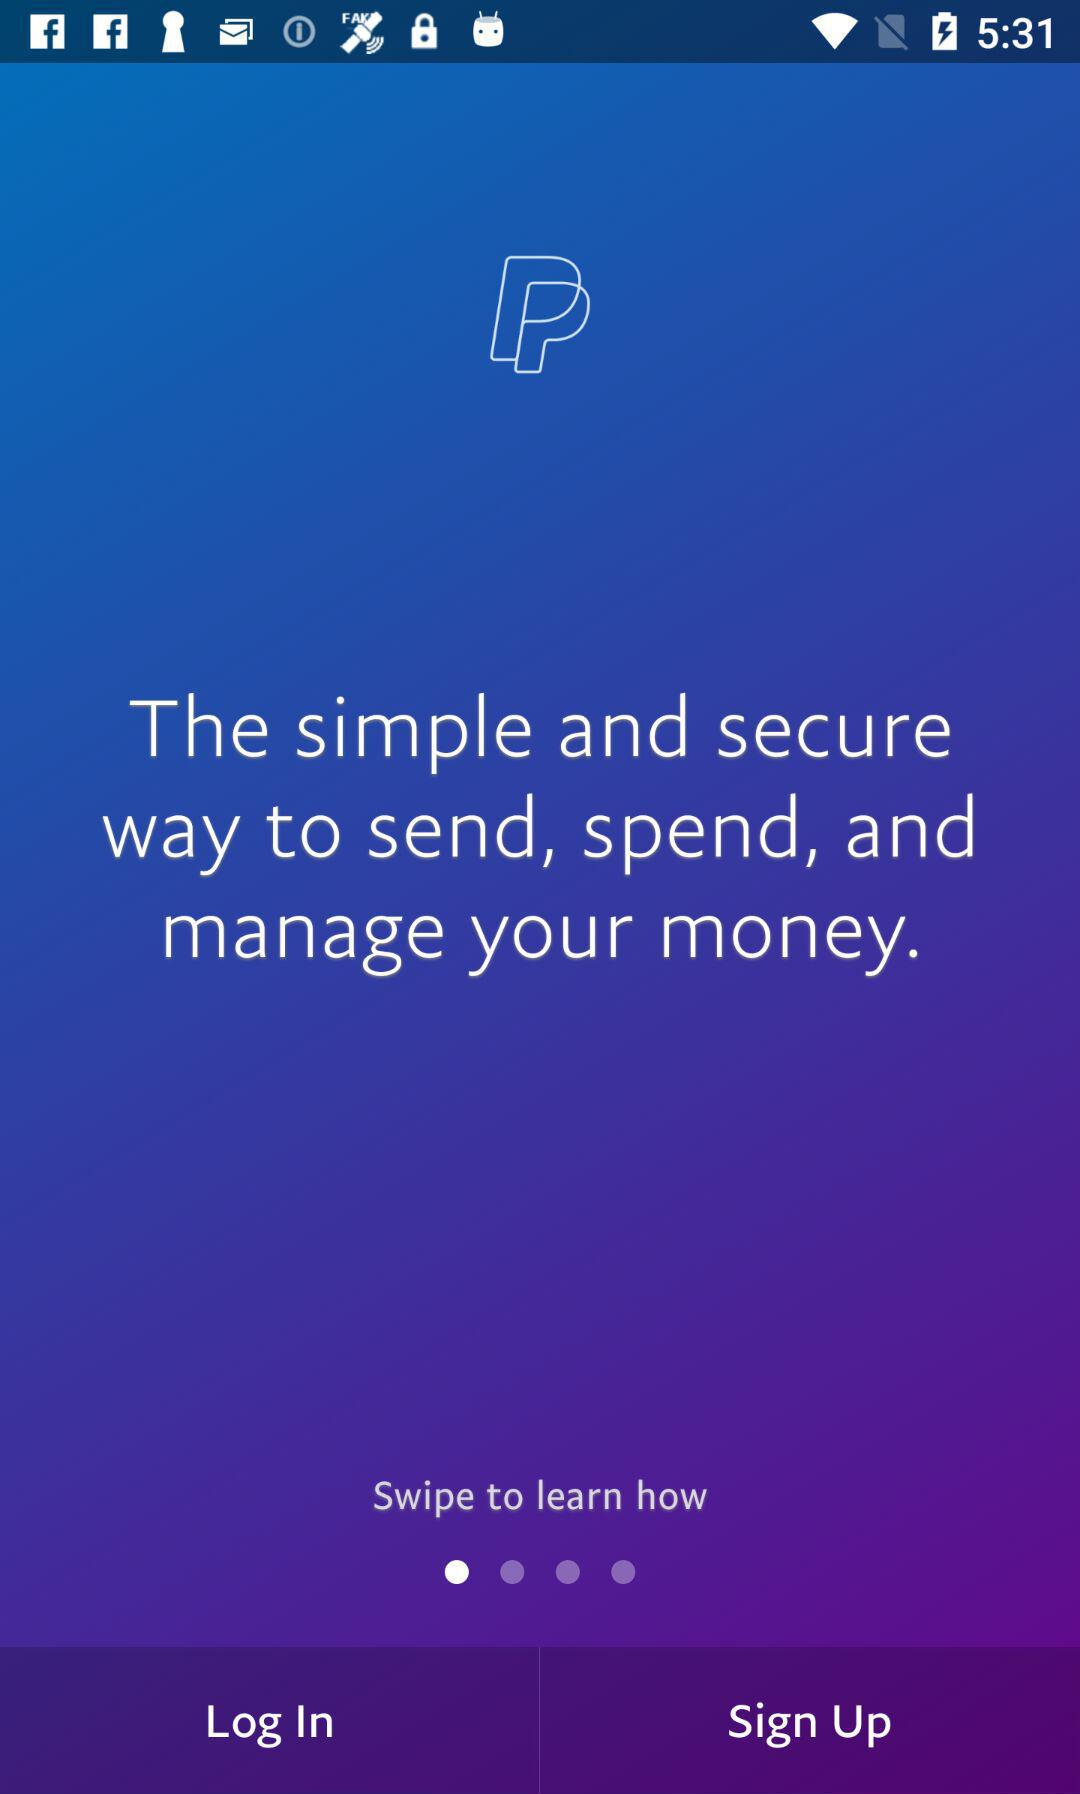Image: (488, 254, 592, 375)
PageIndicator: (445, 1558, 637, 1586)
Text: (102, 692, 974, 979), (373, 1477, 708, 1520)
TextButton: (1, 1647, 541, 1794), (541, 1647, 1080, 1794)
UpperTaskBar: (1, 1, 1080, 64)
